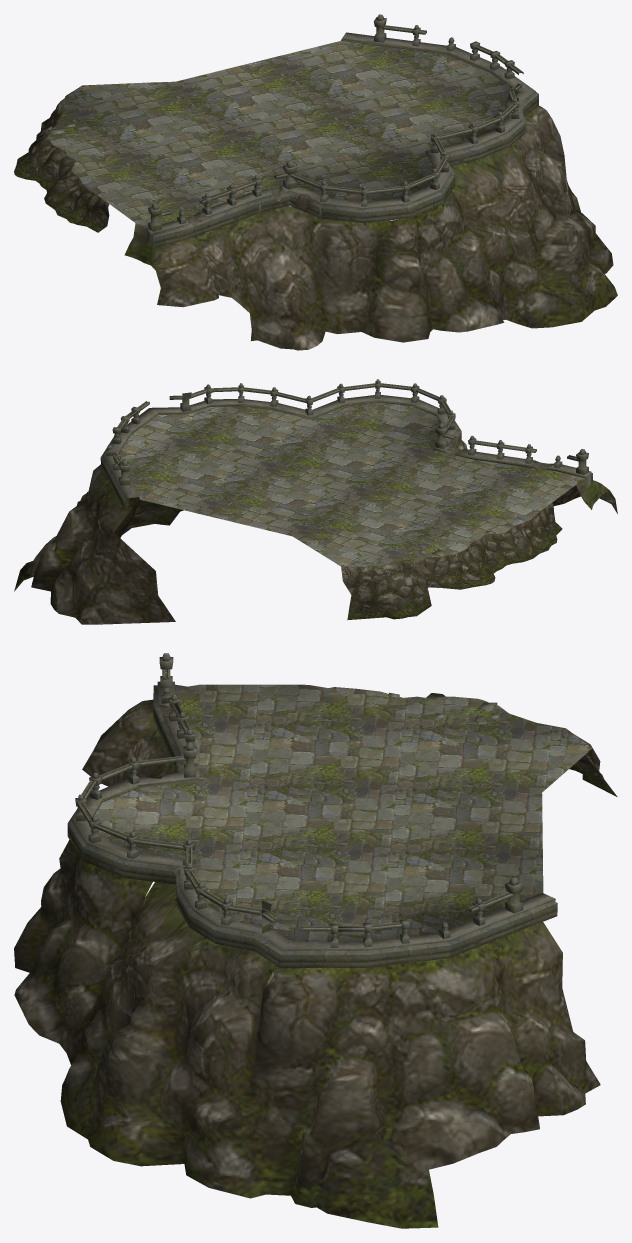
File: S2_Build_XSC098.FBX
3 views of the same model, one above another, from view 1: azimuth 30°, elevation 25°; view 2: azimuth 150°, elevation 25°; view 3: azimuth 270°, elevation 25° (orthographic). The views are drawn at different scales.
Visible parts, largest first — view 1: S2_Build_XSC098; view 2: S2_Build_XSC098; view 3: S2_Build_XSC098.
Boxes of the visible parts, x1=… form: S2_Build_XSC098: x1=14, y1=14, x2=617, y2=350; S2_Build_XSC098: x1=14, y1=379, x2=617, y2=624; S2_Build_XSC098: x1=14, y1=653, x2=617, y2=1228.
Size of the model in its own units: 343 by 121 by 259.
